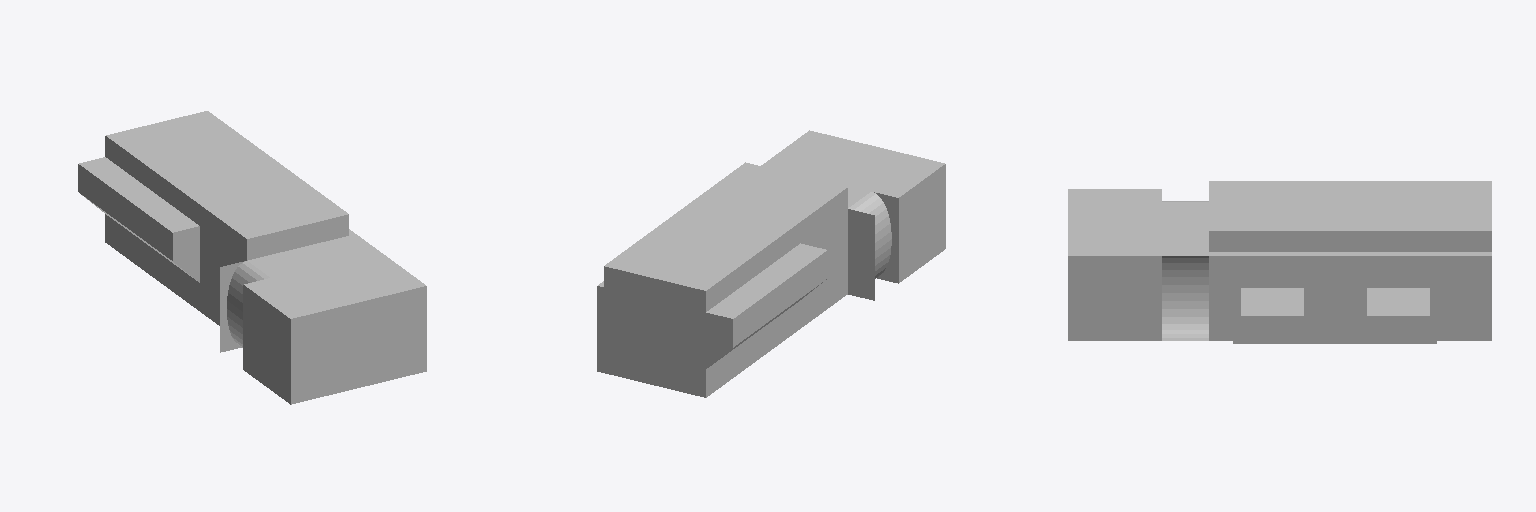
The model's file is station_base.obj.
3 views of the same model, side by side, from view 1: azimuth 30°, elevation 25°; view 2: azimuth 150°, elevation 25°; view 3: azimuth 270°, elevation 25° (orthographic).
Parts seen in each view (by area): view 1: basestation; view 2: basestation; view 3: basestation.
Part boxes in pixels (left/top/right/bottom): basestation: left=78, top=111, right=426, bottom=404; basestation: left=597, top=130, right=945, bottom=397; basestation: left=1068, top=181, right=1491, bottom=343.
Size of the model in its own units: 19.15 by 13.68 by 49.25.